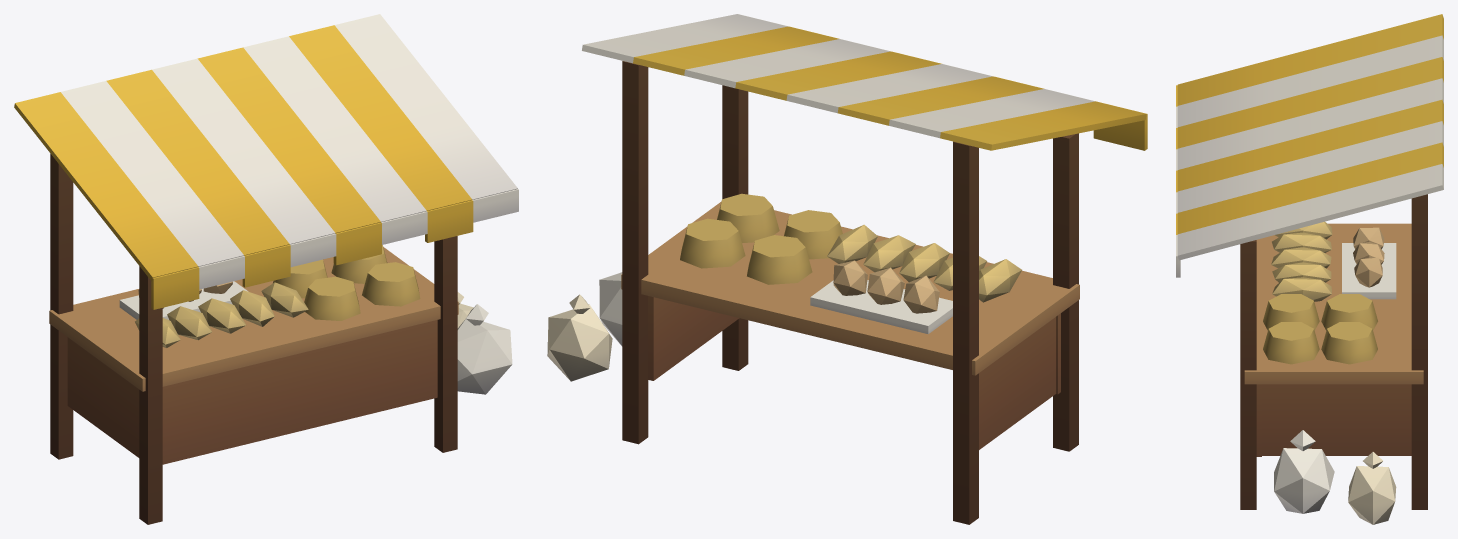
The model's file is market_stall_bread.glb.
3 views of the same model, side by side, from view 1: azimuth 30°, elevation 25°; view 2: azimuth 150°, elevation 25°; view 3: azimuth 270°, elevation 25° (orthographic). The views are drawn at different scales.
Visible parts, largest first — view 1: market_stall_bread; view 2: market_stall_bread; view 3: market_stall_bread.
Boxes of the visible parts, x1,y1,x2,y2 form: market_stall_bread: (14, 14, 518, 524); market_stall_bread: (547, 14, 1147, 524); market_stall_bread: (1176, 14, 1443, 524).
Size of the model in its own units: 12.32 by 9.57 by 6.88.
Materials: 1 (1 with a texture image).
